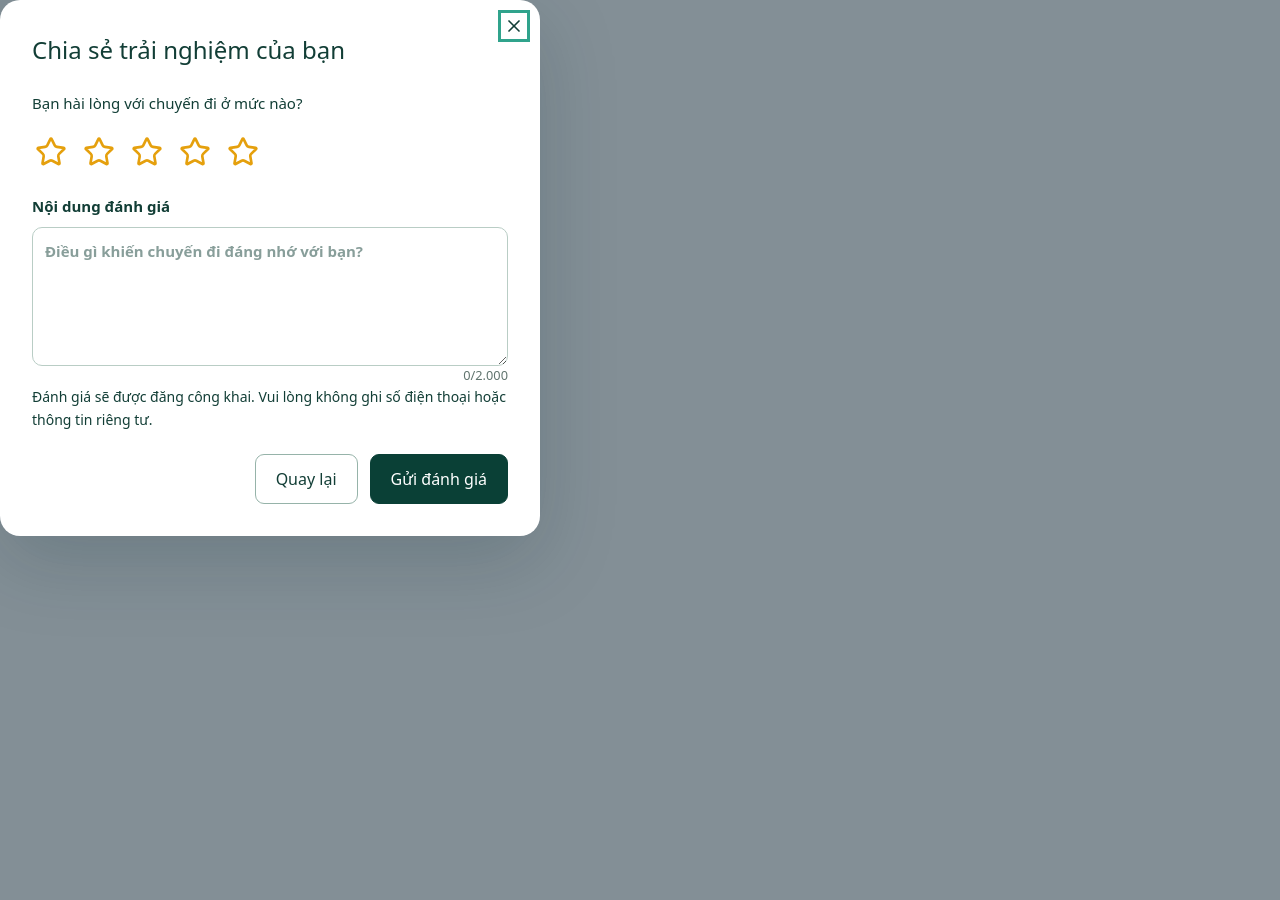
Test case: requires an explicit star selection and nonempty content
Click the button "Gửi đánh giá": point(439, 479) [370, 454, 508, 504]
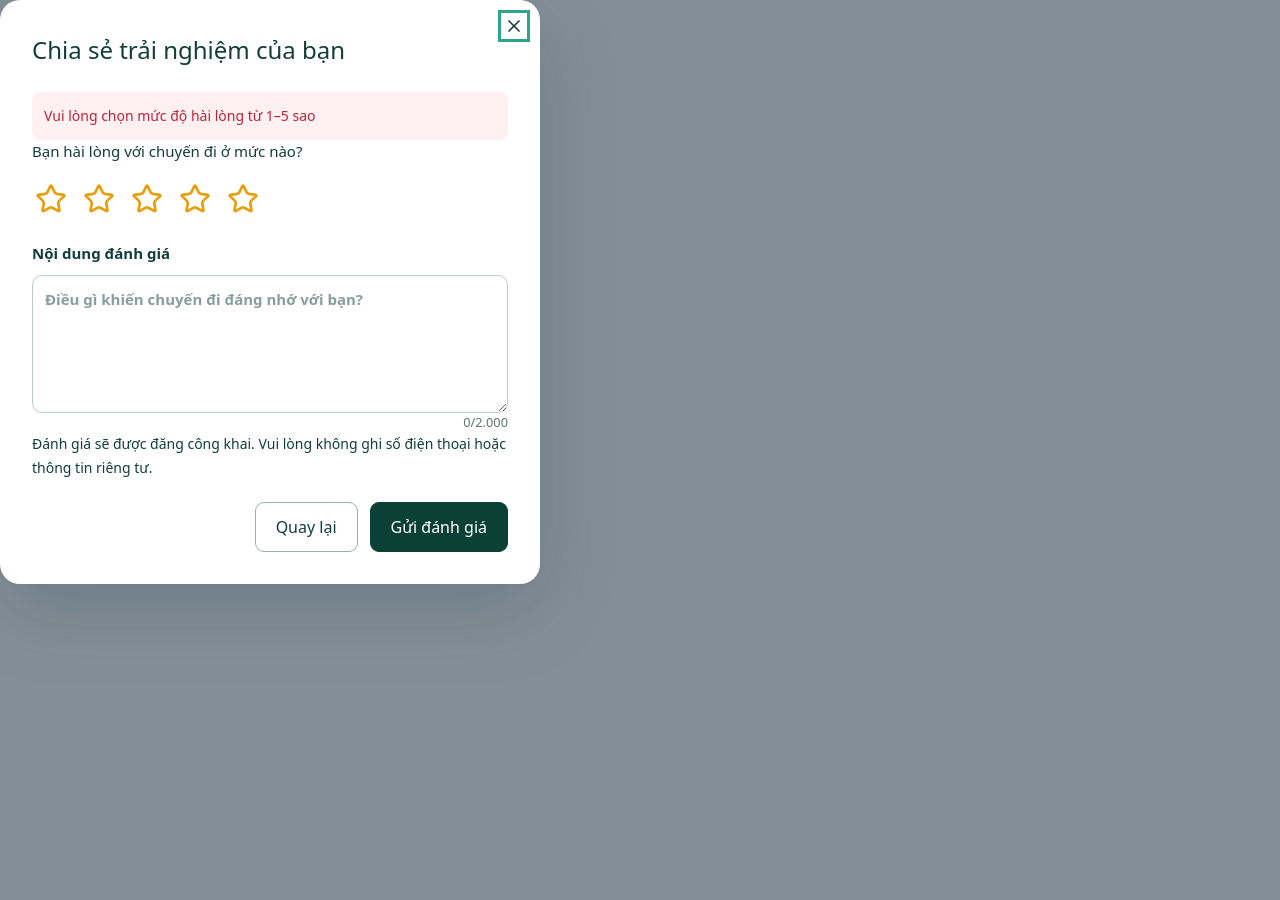
Check: the message shows "1–5 sao", box [44, 106, 316, 125]
Click the button named "4 sao": point(195, 199) [176, 180, 214, 218]
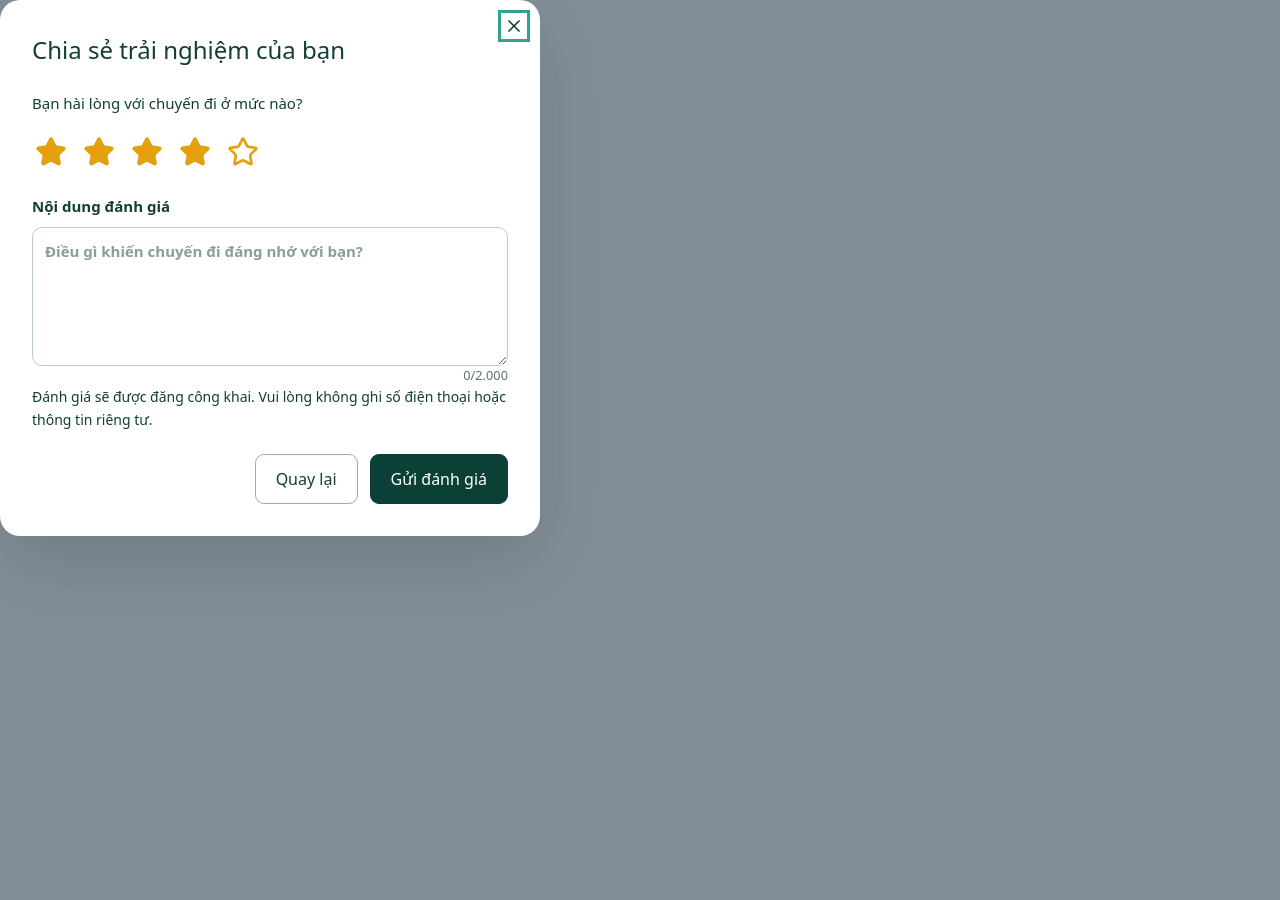
Click the button "Gửi đánh giá": point(439, 479) [370, 454, 508, 504]
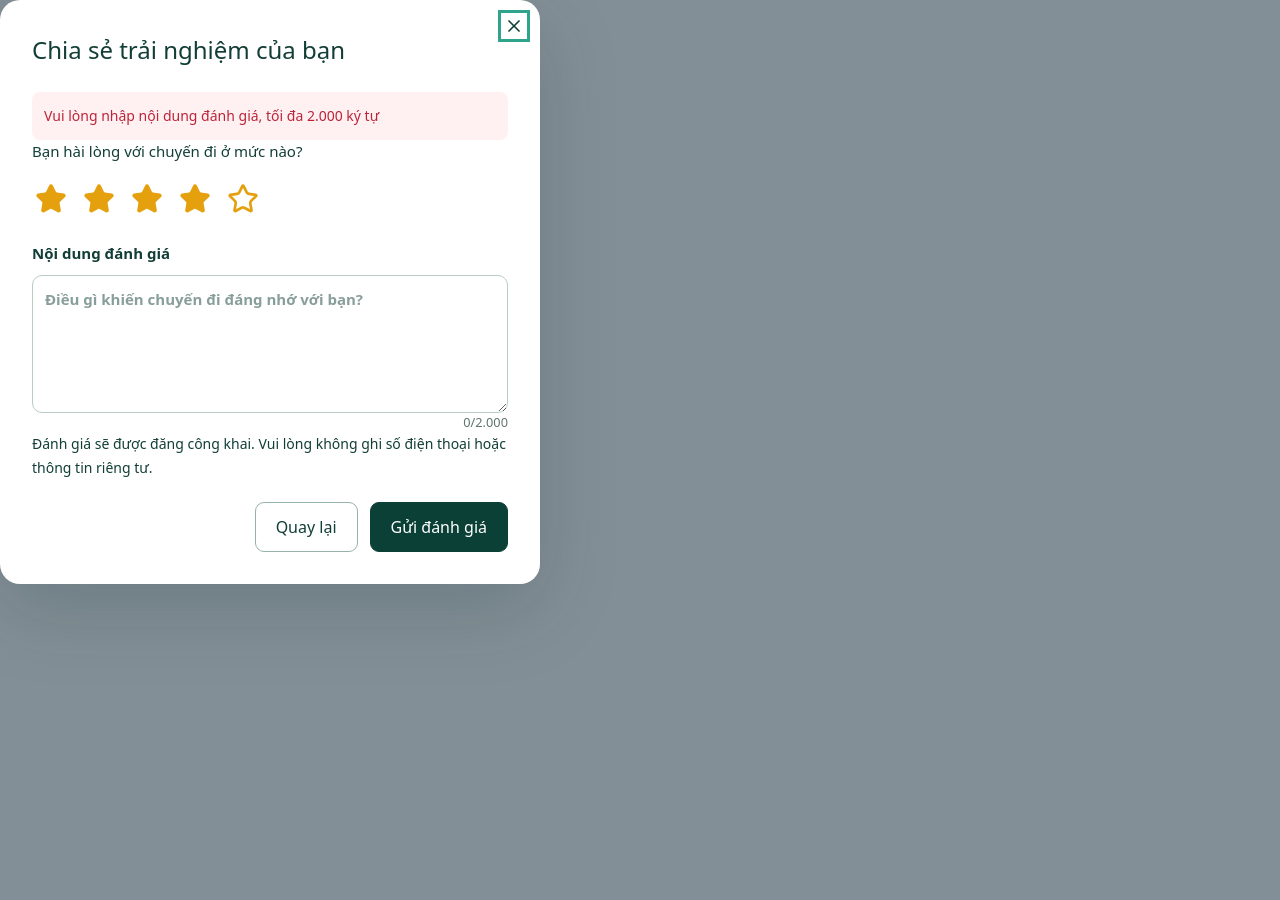
Check: the message shows "nội dung", box [44, 106, 379, 125]
